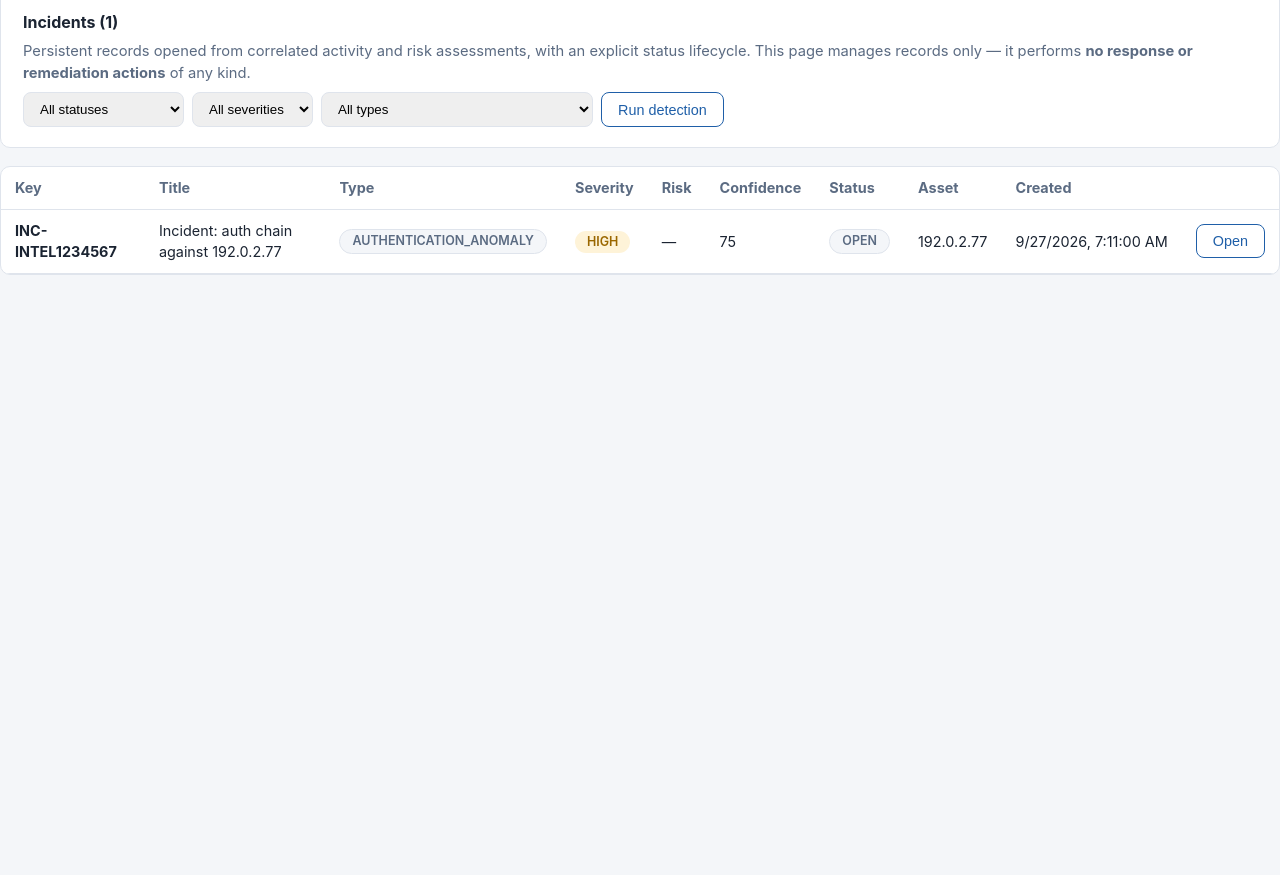
Test: Incident intelligence UI (Step 29) › renders timeline event entries with entity and original-event link
Click the button "Open".
click(1230, 241)  # box [1196,224,1265,258]
(page scrolled)
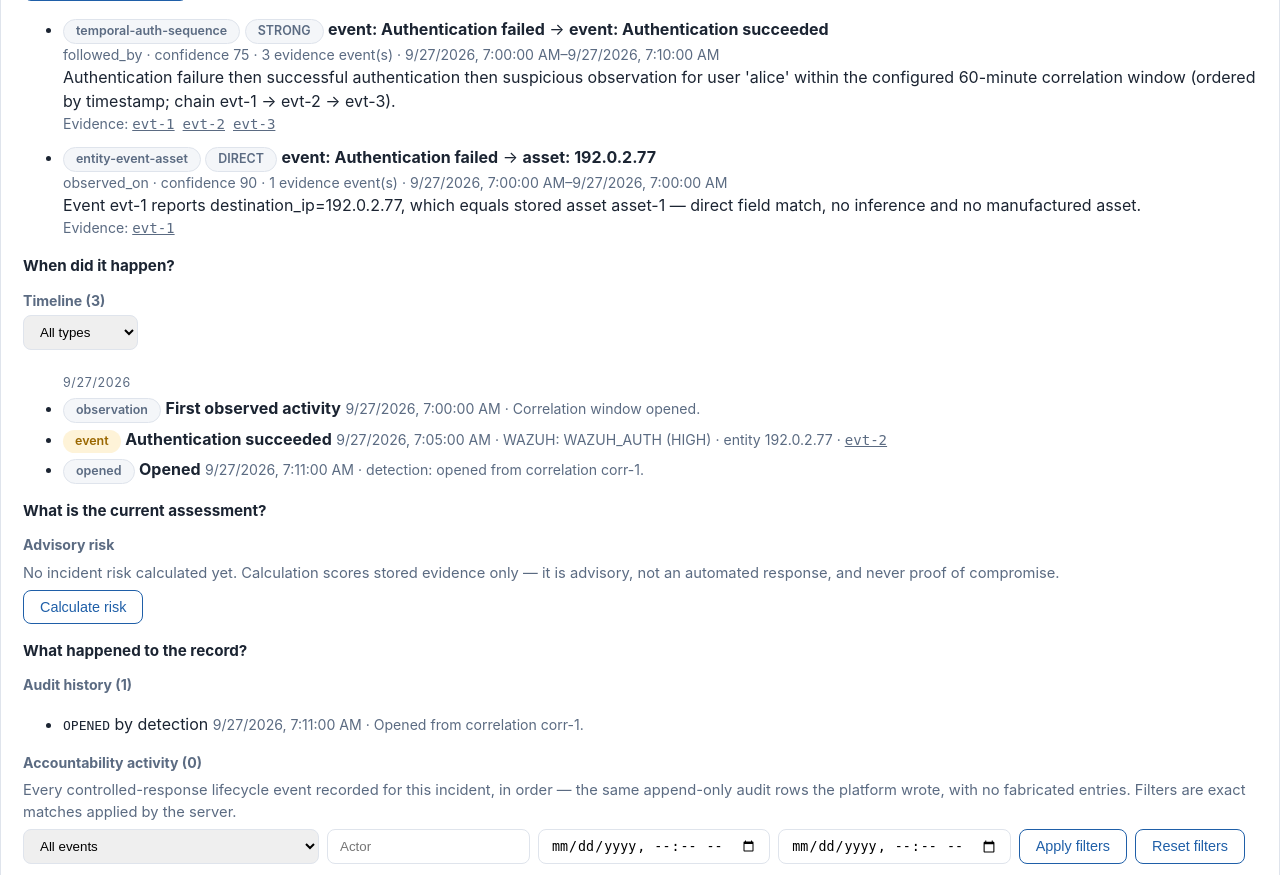
Now the heading "Timeline (3)" is shown, box [23,292,105,309]
Now the text "· entity 192.0.2.77 · evt-2" is shown, box [712,431,887,448]
